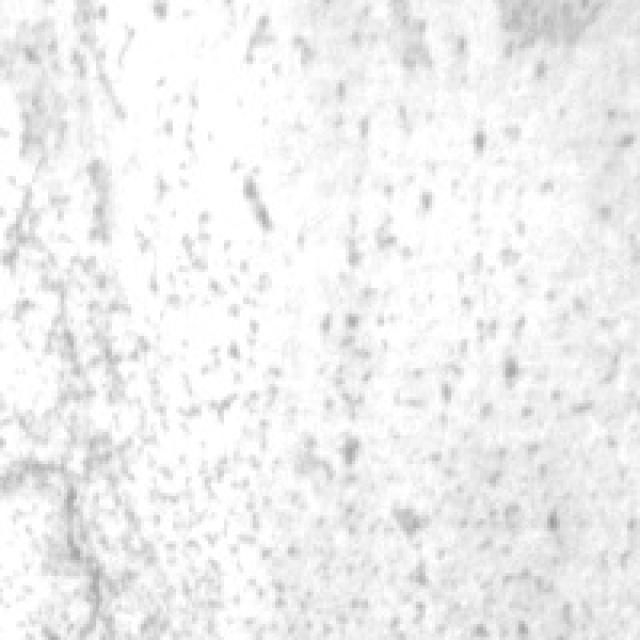pitted_surface: (154, 0, 630, 621), (3, 70, 179, 630)
